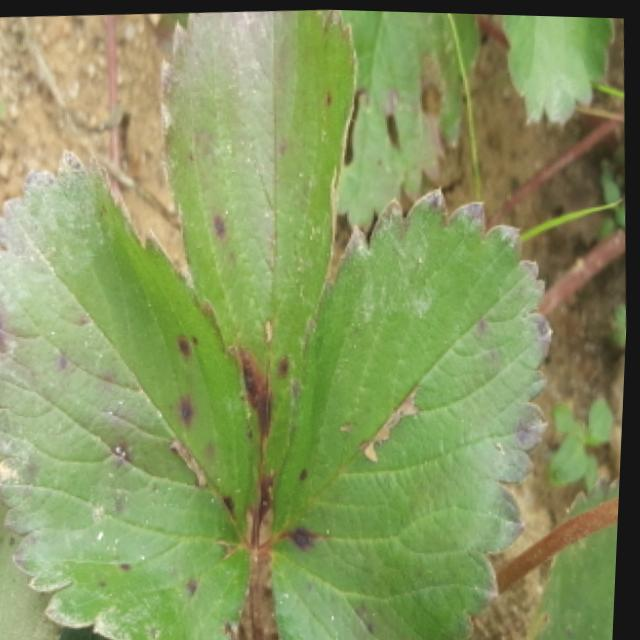Leaf Spot: (0, 145, 262, 640), (273, 182, 556, 640), (159, 7, 357, 538), (0, 502, 70, 640)
